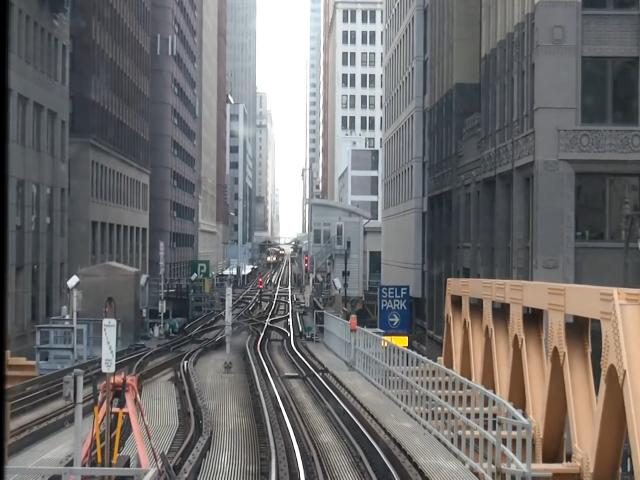signal light: (260, 277, 265, 310), (305, 255, 310, 276)
